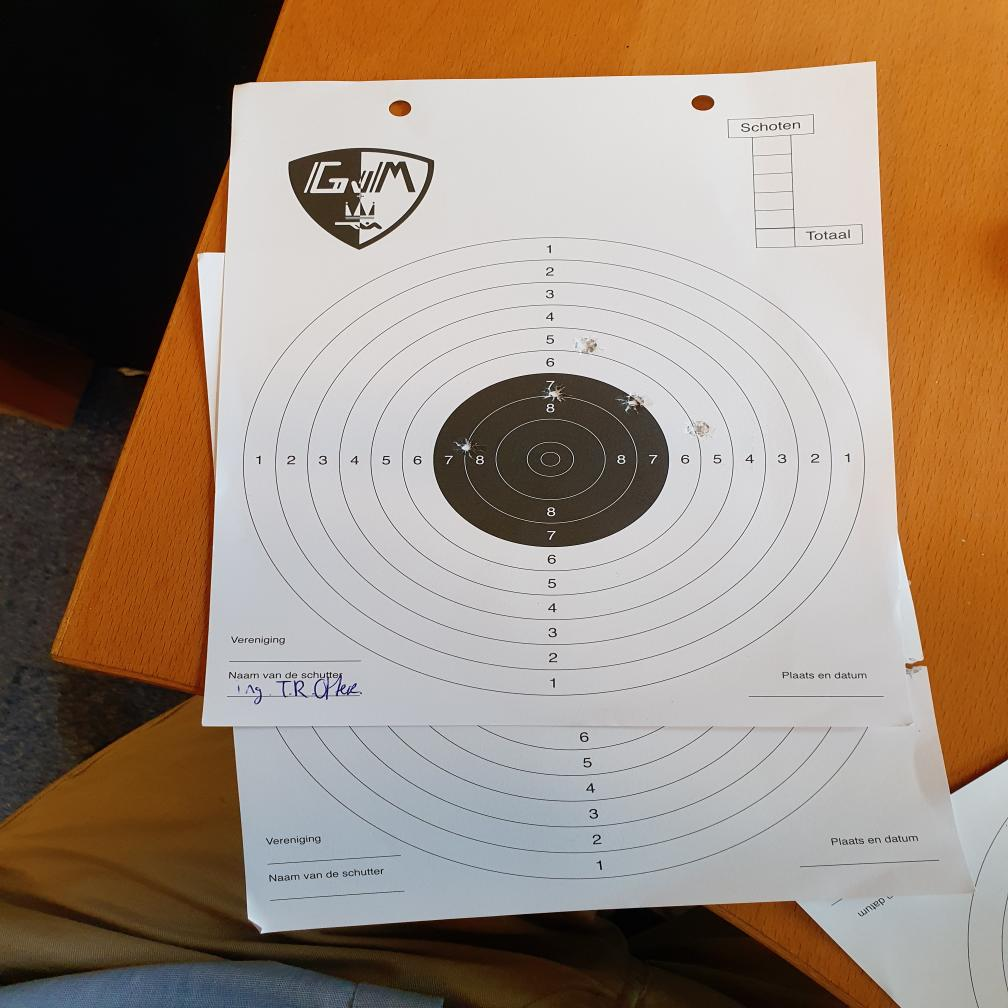6: (683, 418, 714, 442), (572, 336, 602, 354)
7: (618, 389, 646, 413)
8: (453, 435, 487, 460), (542, 381, 569, 403)
Target: (246, 232, 862, 698)
black_contour: (431, 372, 670, 548)
